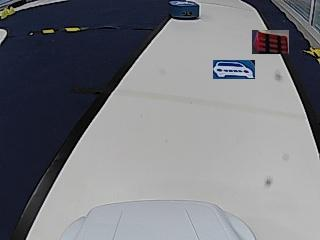prop: (170, 1, 199, 20)
